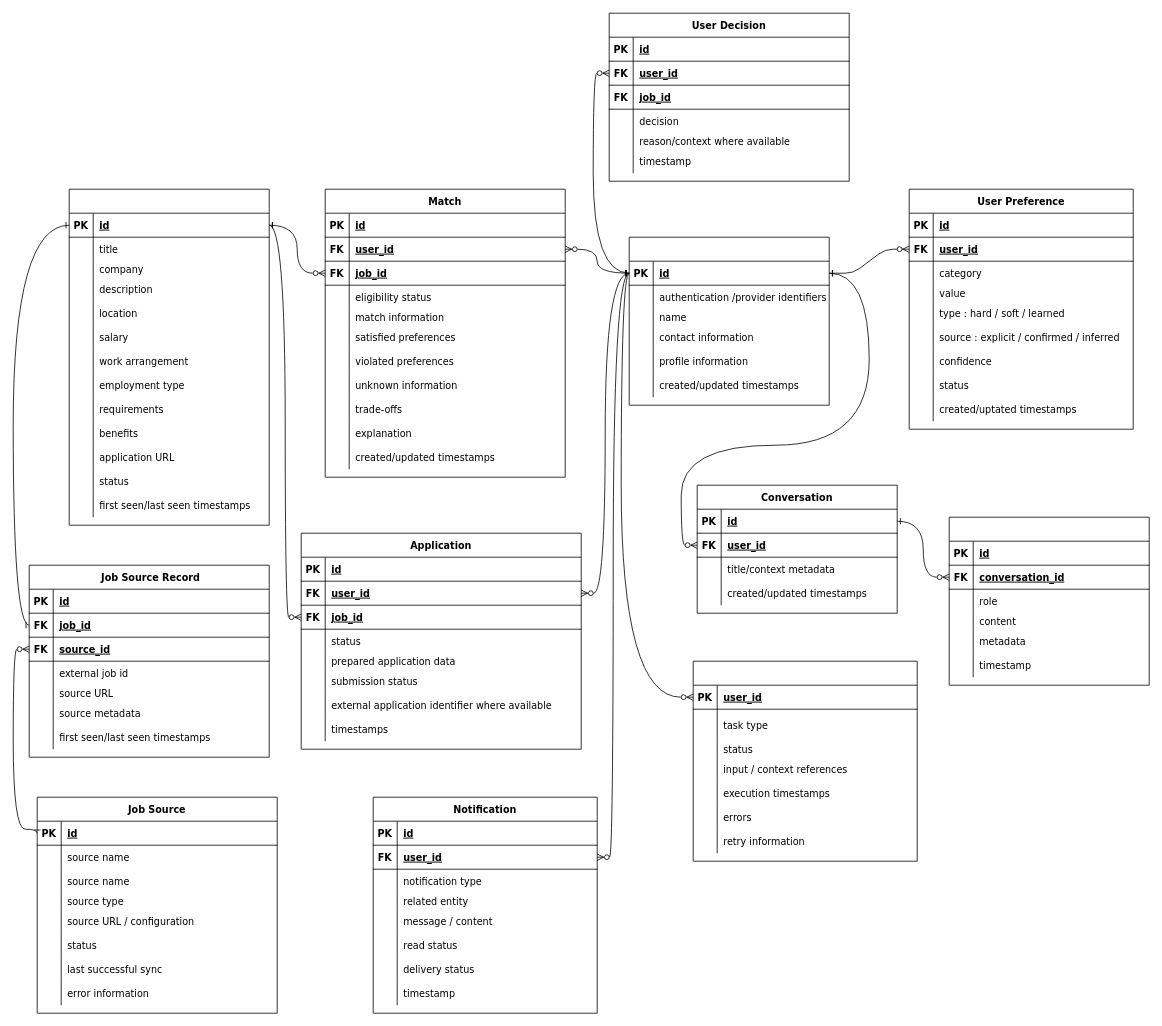
This 1162x1026 diagram has some shape labels left out. Here are the shapes that lost their labels. From the top down, the box of each, then its label:
(628, 236, 829, 405): User
(68, 188, 269, 525): Job
(948, 516, 1149, 685): Message
(692, 660, 917, 861): Agent Run / Task
